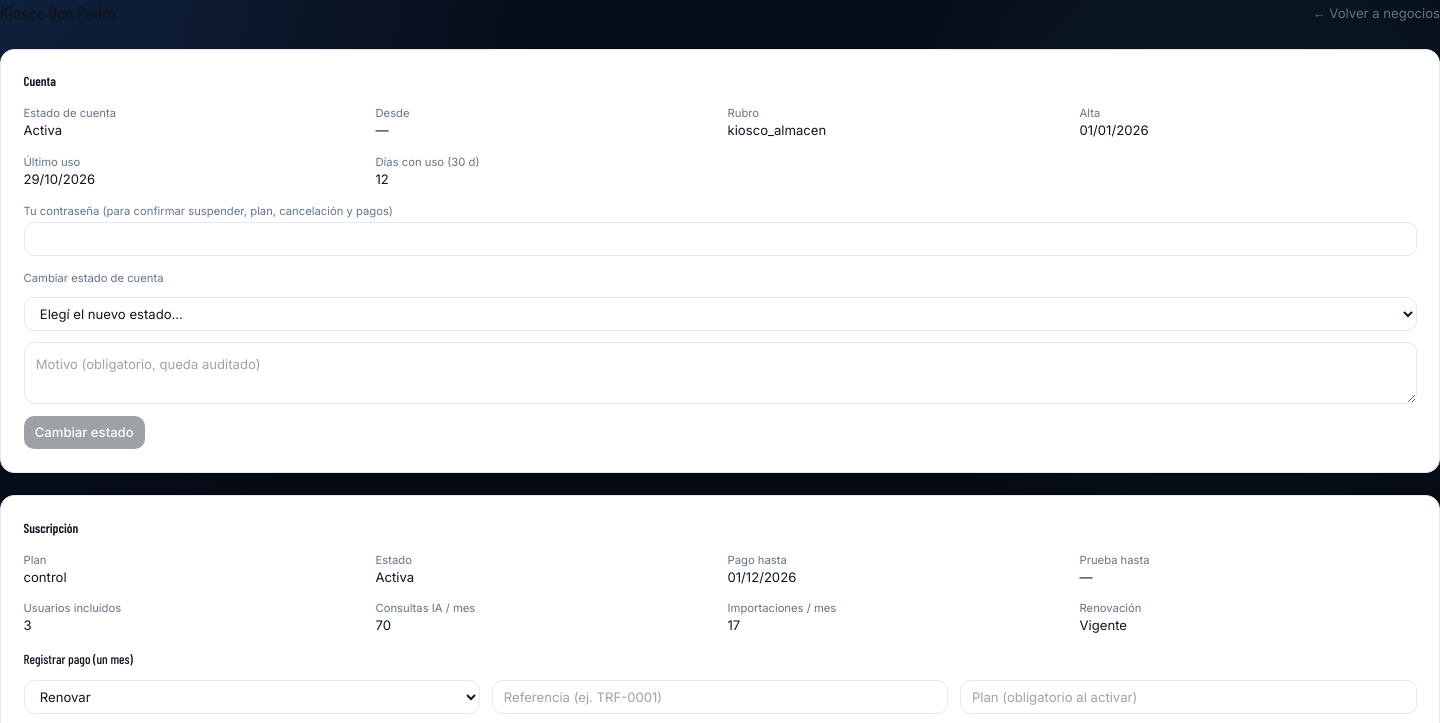
Test case: TenantDetailScreen › suspender usa un botón propio y no ofrece el estado actual
This screenshot has width=1440, height=723.
Select "Suspendida" in the dropdown labelled "Cambiar estado de cuenta" at (720, 314), box [24,297,1416,331]
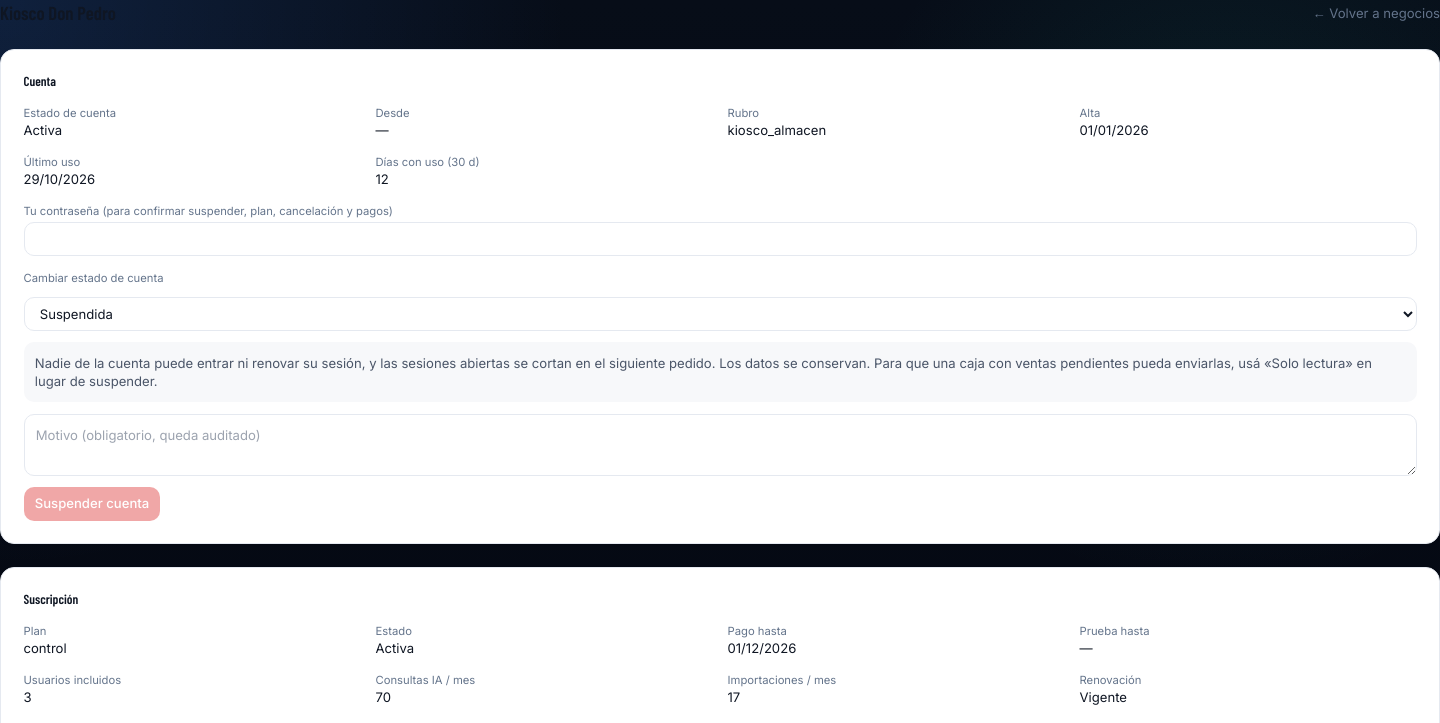
expect the button "Suspender cuenta" is shown: met, box [24,487,160,521]
